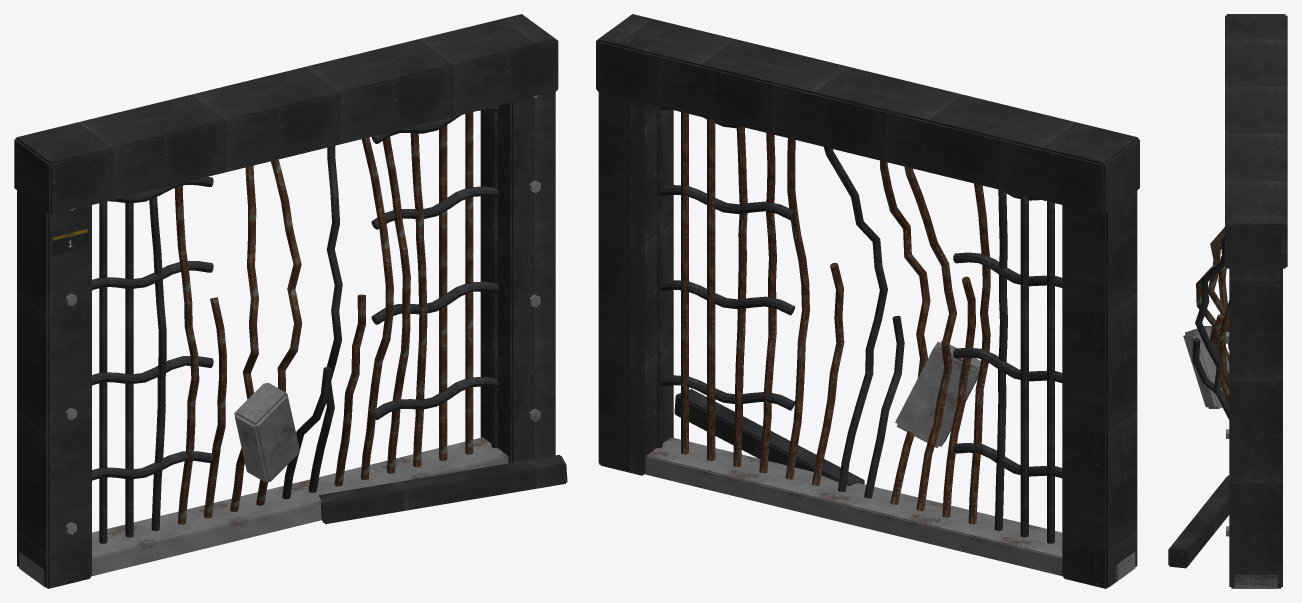
File: chamber1_gate.gltf
3 renders of one model, left to right at view 1: azimuth 30°, elevation 25°; view 2: azimuth 150°, elevation 25°; view 3: azimuth 270°, elevation 25°, orthographic. The views are drawn at different scales.
Visible parts, largest first — view 1: Body; view 2: Body; view 3: Body.
Boxes of the visible parts, x1=… form: Body: x1=14, y1=14, x2=567, y2=588; Body: x1=596, y1=14, x2=1139, y2=588; Body: x1=1168, y1=14, x2=1287, y2=588.
Bounding box in the file's own units: 5.6 × 4.51 × 1.33.
4 materials, 4 textured.
